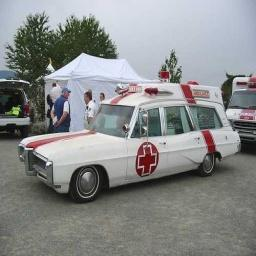Ambulance: (18, 83, 239, 201), (226, 77, 255, 142)
